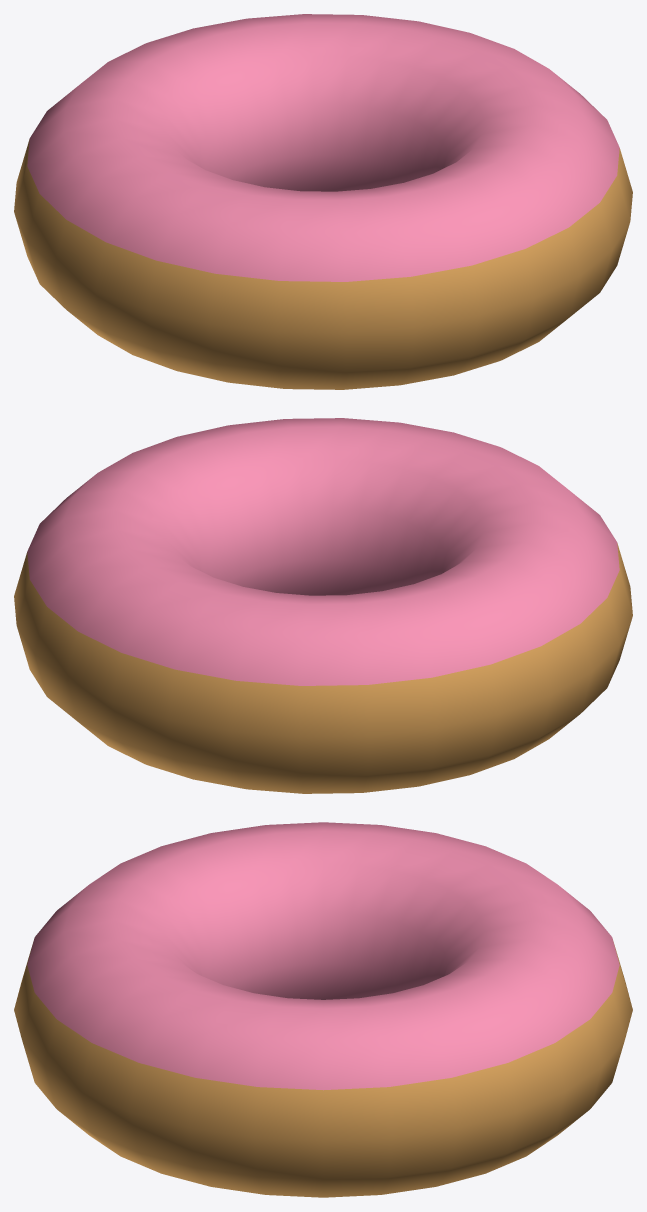
The model's file is Donuts.fbx.
The picture shows the model from 3 angles, top to bottom: view 1: azimuth 30°, elevation 25°; view 2: azimuth 150°, elevation 25°; view 3: azimuth 270°, elevation 25°; orthographic projection.
Parts seen in each view (by area): view 1: Donuts; view 2: Donuts; view 3: Donuts.
Part boxes in pixels (bbox=[...]): Donuts: bbox=[14, 14, 632, 389]; Donuts: bbox=[14, 418, 632, 793]; Donuts: bbox=[14, 822, 632, 1197].
Bounding box in the file's own units: 0.106 × 0.034 × 0.106.
